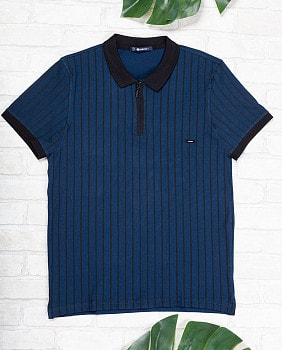striped: (1, 38, 277, 320)
